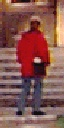person: (10, 11, 53, 117)
